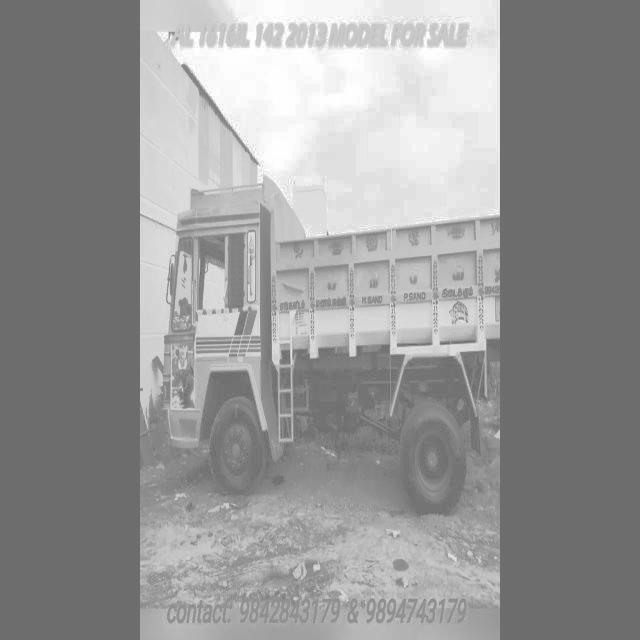HCV: (158, 140, 500, 532)
